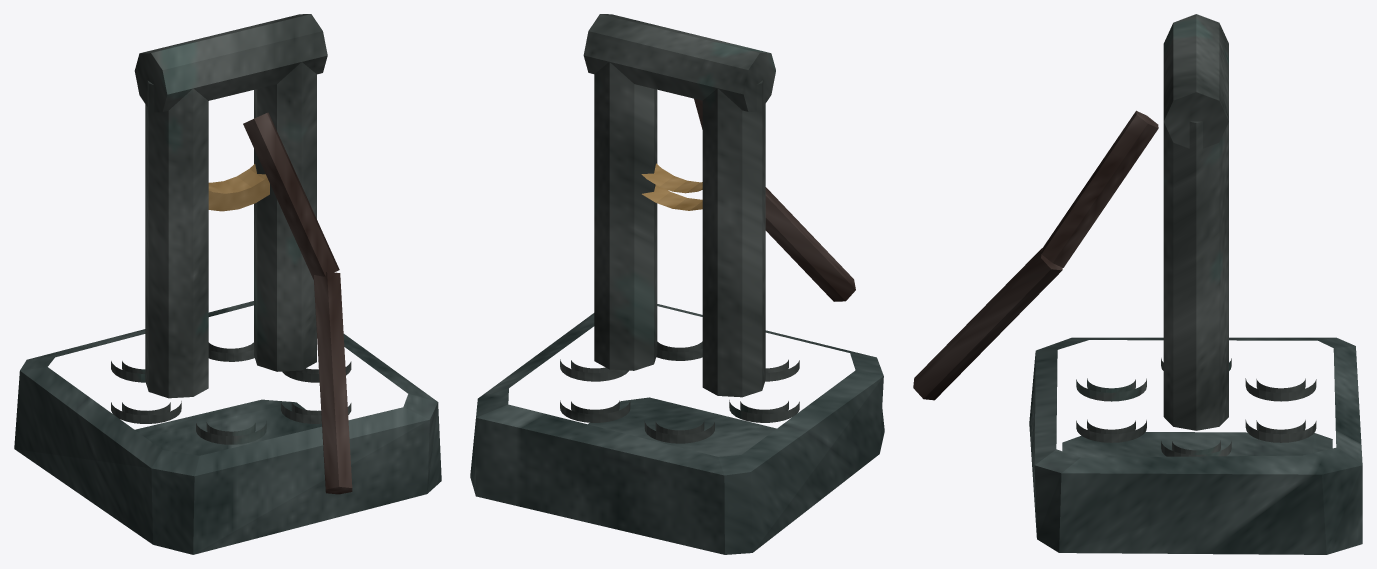
File: 0682_rope_anchor_07.glb
The picture shows the model from 3 angles, left to right: view 1: azimuth 30°, elevation 25°; view 2: azimuth 150°, elevation 25°; view 3: azimuth 270°, elevation 25°; orthographic projection.
Visible parts, largest first — view 1: iron, stone_dark, wood_dark, brass; view 2: iron, stone_dark, wood_dark, brass; view 3: stone_dark, iron, wood_dark.
Part boxes in pixels (<box>): iron: <box>111,14,351,444</box>; stone_dark: <box>14,301,441,554</box>; wood_dark: <box>243,112,352,494</box>; brass: <box>208,164,269,211</box>; iron: <box>560,14,799,443</box>; stone_dark: <box>470,304,884,554</box>; wood_dark: <box>694,98,855,301</box>; brass: <box>641,163,702,210</box>; stone_dark: <box>1029,337,1362,554</box>; iron: <box>1076,14,1316,456</box>; wood_dark: <box>913,110,1158,400</box>.
Size of the model in its own units: 1.23 by 1.78 by 1.65.
4 materials, 4 textured.
